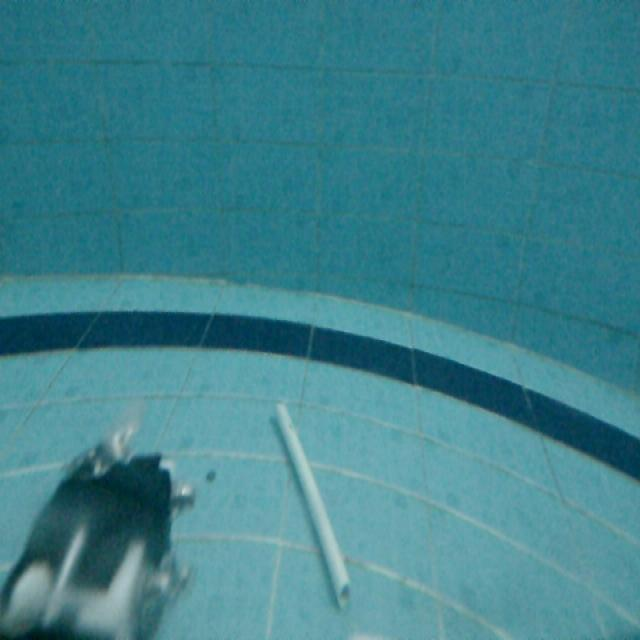Cube: (273, 400, 358, 605)
